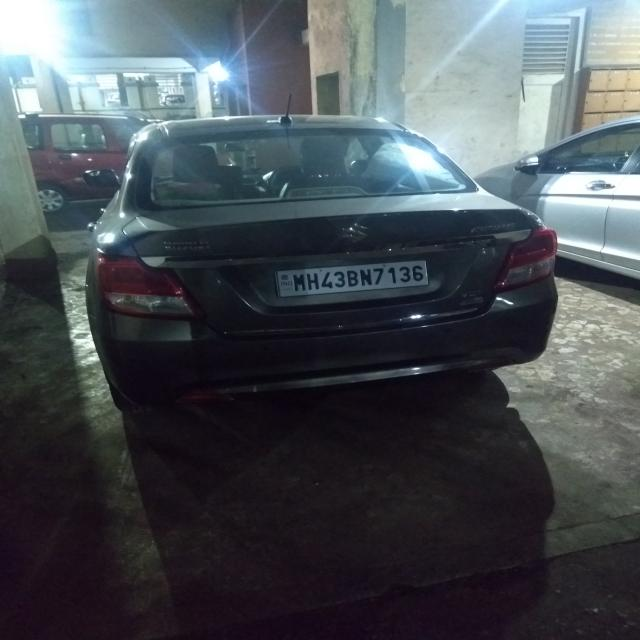Number-Plate: (279, 262, 428, 295)
